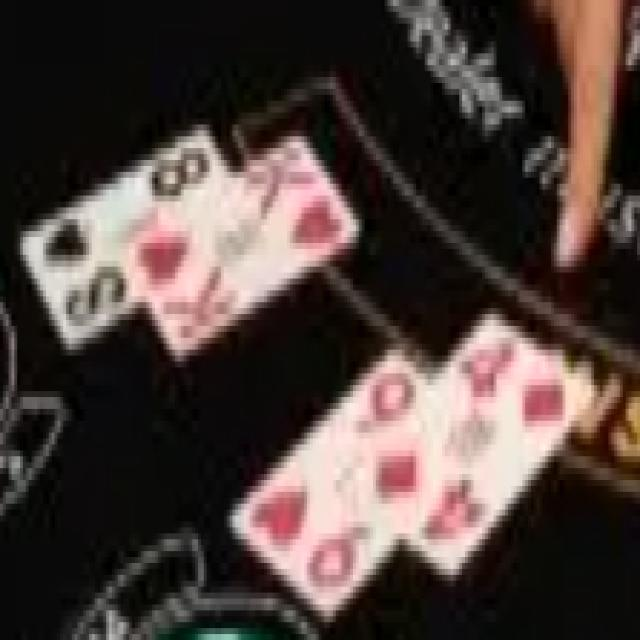Card-4: (363, 310, 597, 581)
Card-8: (21, 124, 229, 353)
Card-9: (228, 344, 430, 620)
Card-K: (122, 129, 359, 360)
